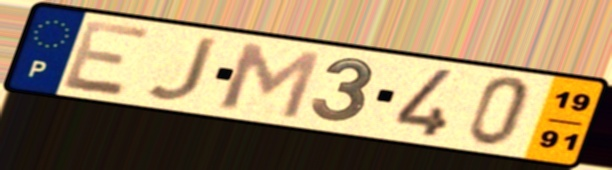0: (467, 76, 538, 151)
3: (308, 56, 378, 126)
4: (388, 66, 459, 140)
E: (58, 17, 156, 99)
J: (142, 35, 222, 104)
M: (216, 39, 326, 122)
